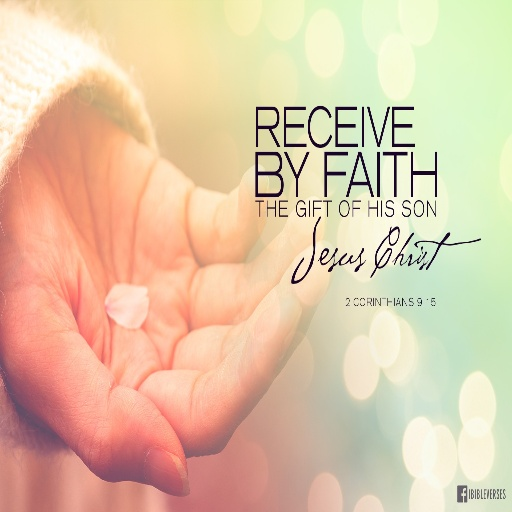hand: (0, 91, 334, 500)
